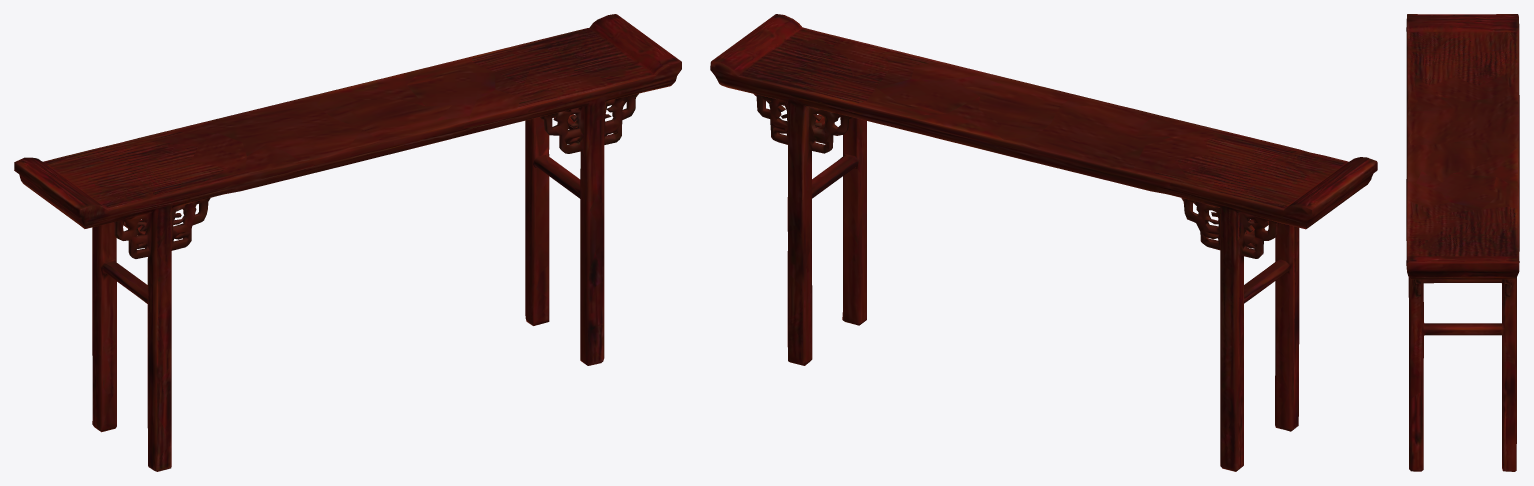
Rendered from hw_qiaotou.glb.
3 views of the same model, side by side, from view 1: azimuth 30°, elevation 25°; view 2: azimuth 150°, elevation 25°; view 3: azimuth 270°, elevation 25° (orthographic). The views are drawn at different scales.
Visible parts, largest first — view 1: tripo_node_cdfe1479-22d2-4f31-acfb-70dd5470fff7; view 2: tripo_node_cdfe1479-22d2-4f31-acfb-70dd5470fff7; view 3: tripo_node_cdfe1479-22d2-4f31-acfb-70dd5470fff7.
Part boxes in pixels (<box>): tripo_node_cdfe1479-22d2-4f31-acfb-70dd5470fff7: <box>14,14,681,471</box>; tripo_node_cdfe1479-22d2-4f31-acfb-70dd5470fff7: <box>710,14,1377,471</box>; tripo_node_cdfe1479-22d2-4f31-acfb-70dd5470fff7: <box>1406,14,1519,471</box>.
Bounding box in the file's own units: 2.21 × 0.9999 × 0.4234.
Materials: 1 (1 with a texture image).
